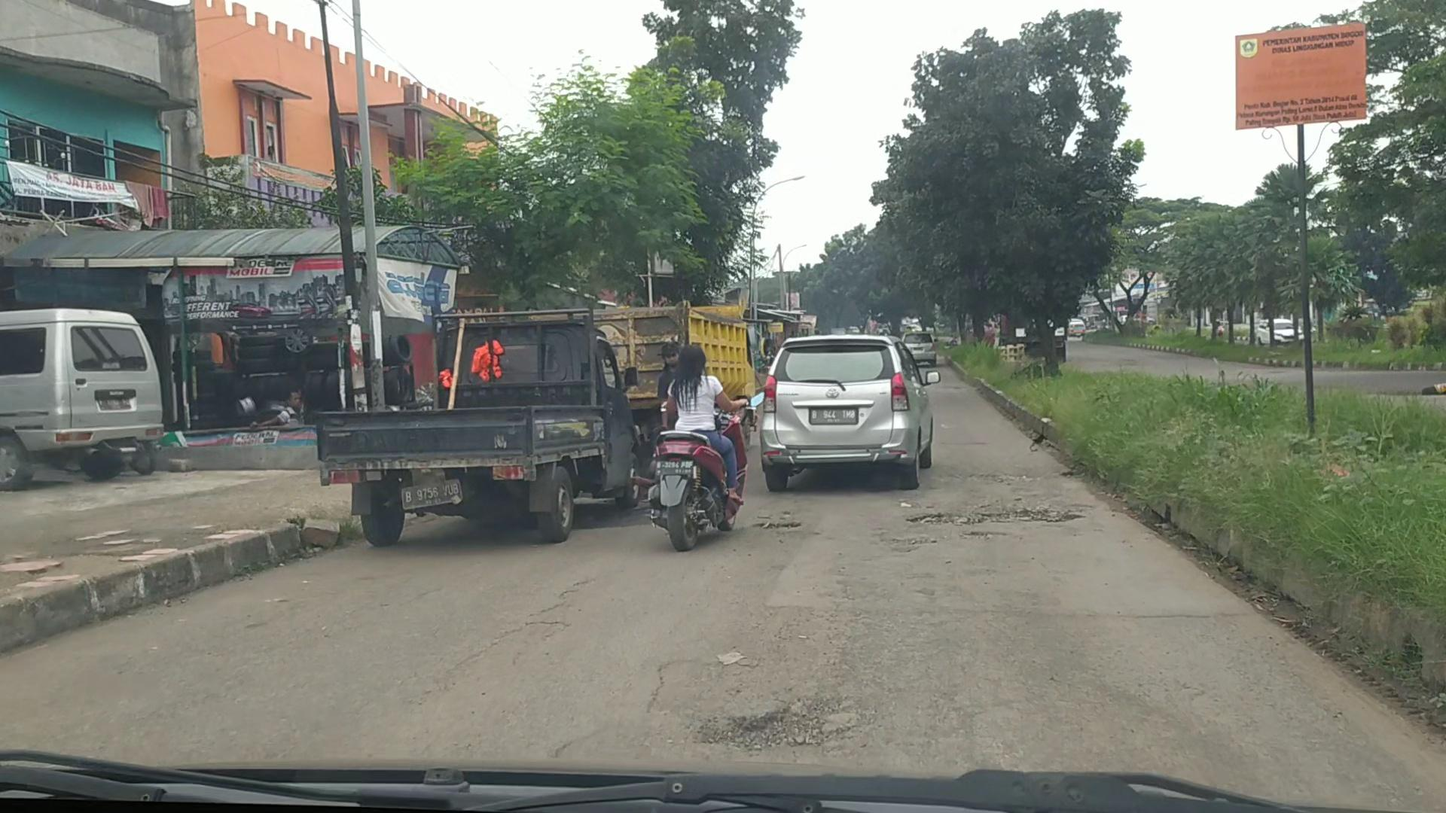pothole: (982, 503, 1076, 525), (903, 509, 971, 527), (757, 520, 804, 531)
